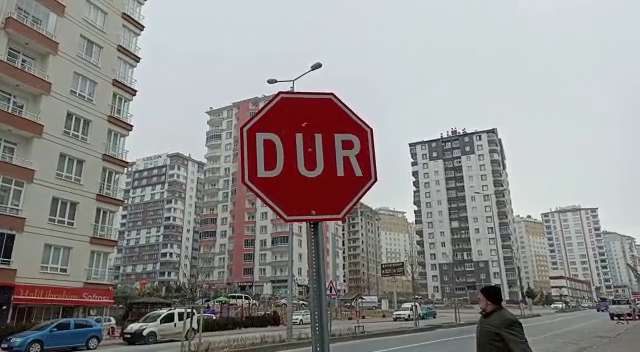stop: (239, 90, 380, 225)
